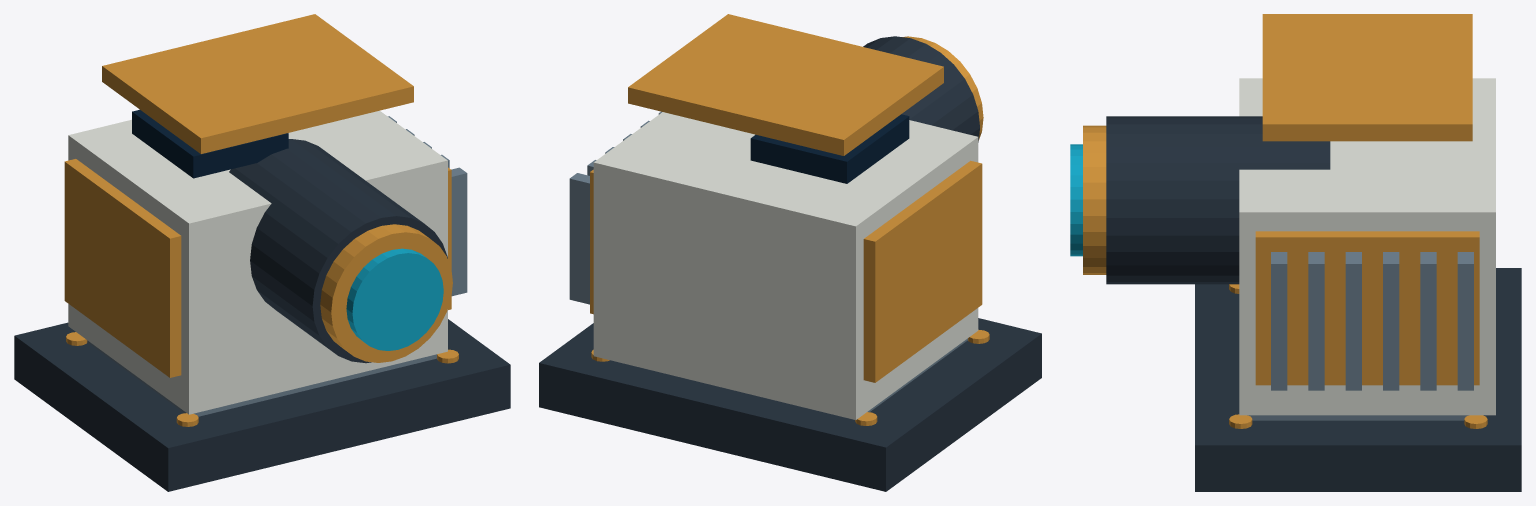
File: 05_Espectrometro_Mineralogico.obj
3 views of the same model, side by side, from view 1: azimuth 30°, elevation 25°; view 2: azimuth 150°, elevation 25°; view 3: azimuth 270°, elevation 25° (orthographic). The views are drawn at different scales.
Visible parts, largest first — view 1: Espectrometro_Mineralogico; view 2: Espectrometro_Mineralogico; view 3: Espectrometro_Mineralogico.
Part boxes in pixels (x1,y1,x2,y2): Espectrometro_Mineralogico: (14, 14, 510, 491); Espectrometro_Mineralogico: (539, 14, 1041, 491); Espectrometro_Mineralogico: (1070, 14, 1521, 491).
Bounding box in the file's own units: 0.9 × 0.79 × 0.9675.
